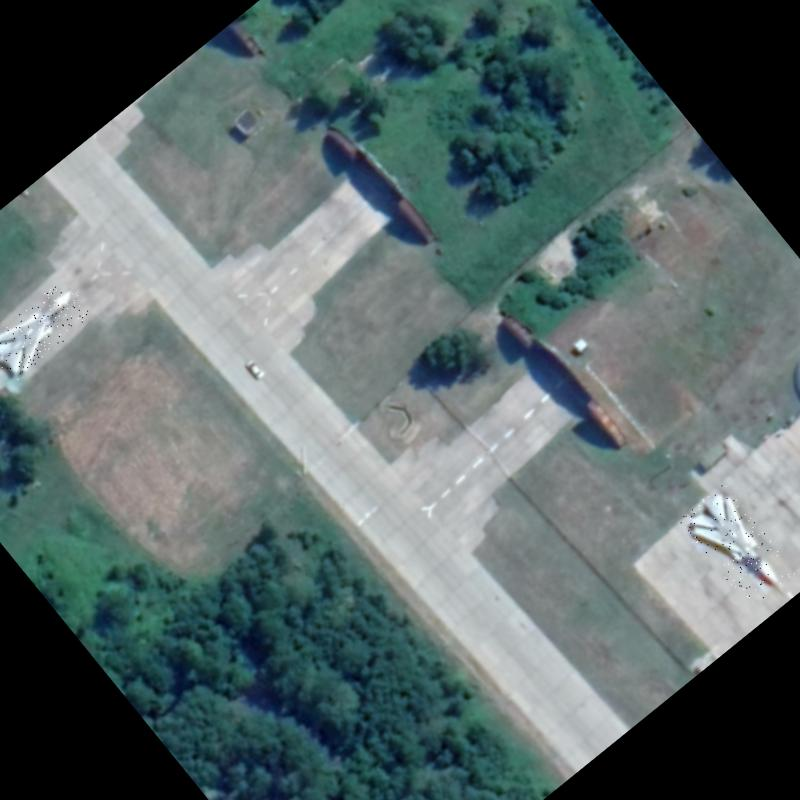A20: (678, 482, 796, 609), (0, 276, 95, 382)
